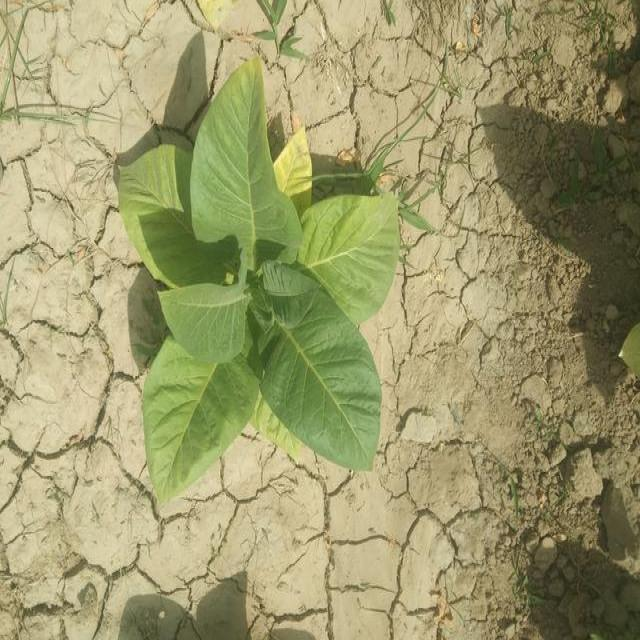crop: (136, 61, 386, 484)
